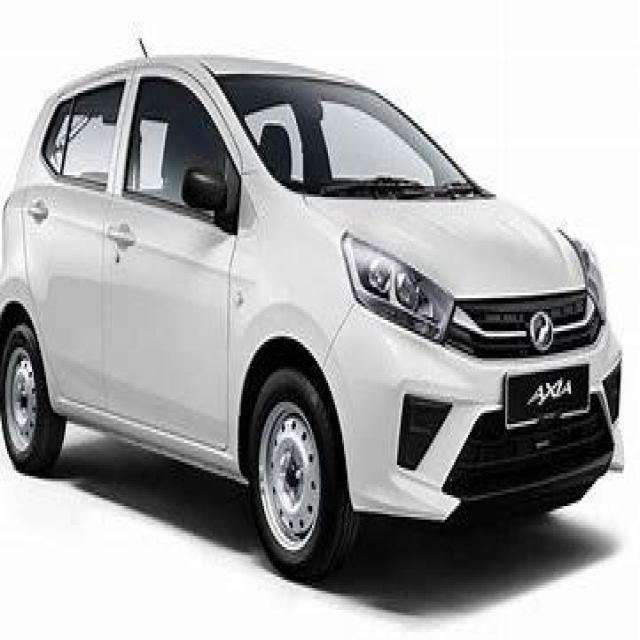PeroduaAxia: (1, 36, 625, 583)
